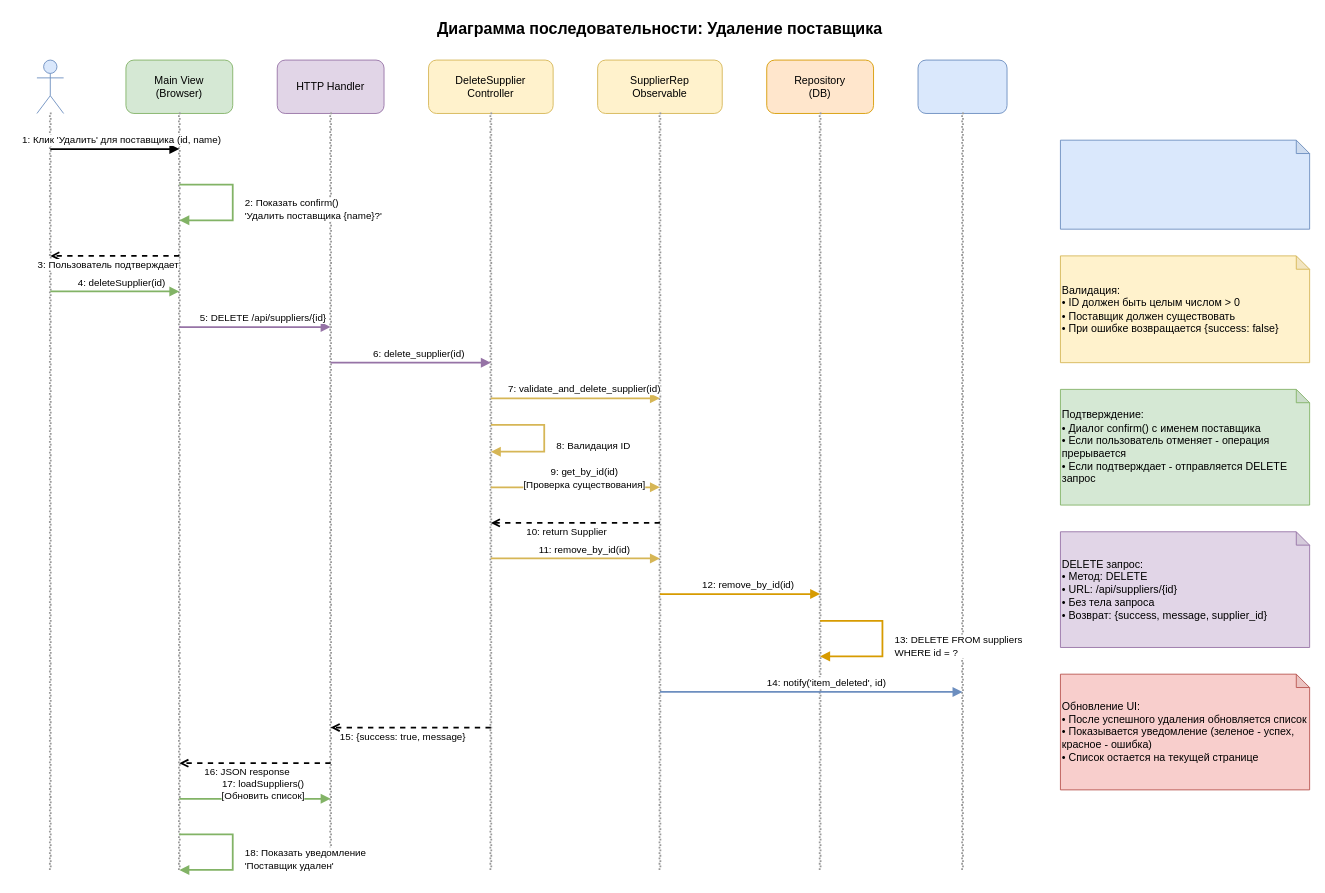
Image size: 1325x893. Some labels were removed from this diagram. Each missing label, with the centre of its shape:
Observer: point 962,86
Паттерн Observer: Observable уведомляет Observer об удалении записи: point 1185,184
Пользователь: point 50,86
